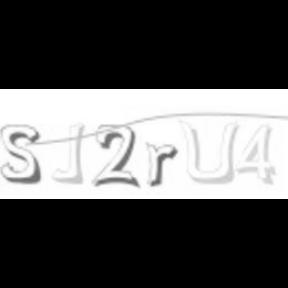2: (94, 121, 140, 189)
4: (235, 122, 277, 186)
J: (51, 122, 89, 182)
S: (1, 122, 44, 184)
U: (178, 119, 240, 186)
r: (143, 141, 179, 189)
